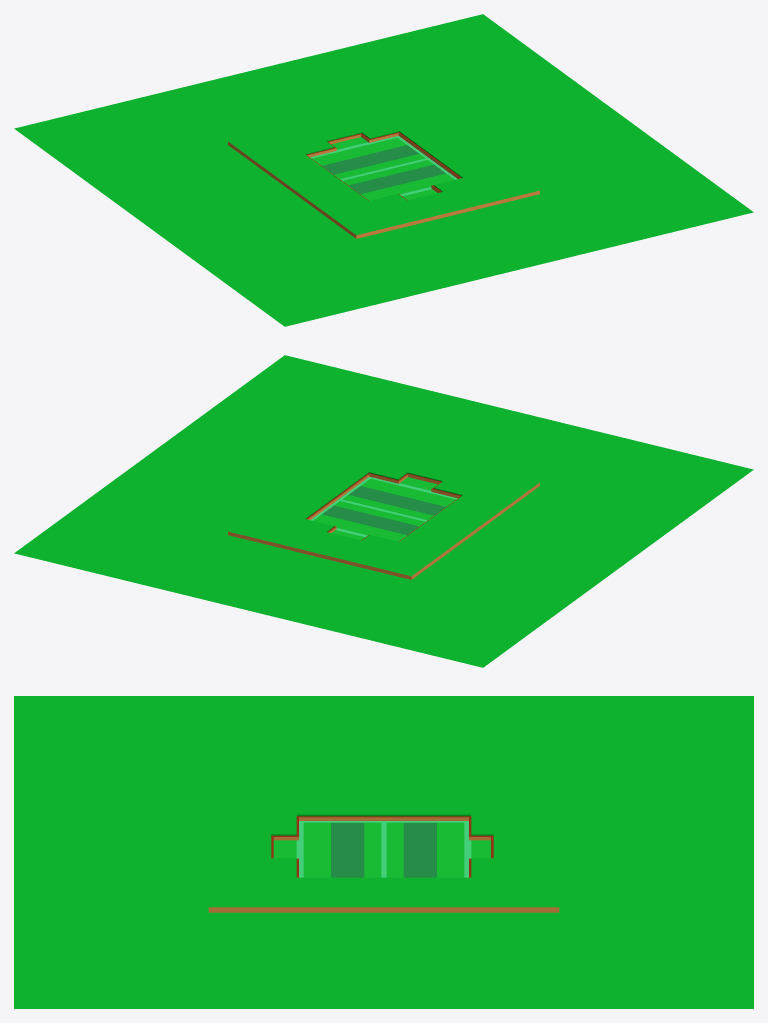
File: BrawlBall_Ground.fbx
3 views of the same model, one above another, from view 1: azimuth 30°, elevation 25°; view 2: azimuth 150°, elevation 25°; view 3: azimuth 270°, elevation 25° (orthographic). The views are drawn at different scales.
Parts seen in each view (by area): view 1: 1_BrawlBall_Ground; view 2: 1_BrawlBall_Ground; view 3: 1_BrawlBall_Ground.
Part boxes in pixels (bbox=[...]): 1_BrawlBall_Ground: bbox=[14, 14, 753, 326]; 1_BrawlBall_Ground: bbox=[14, 355, 753, 667]; 1_BrawlBall_Ground: bbox=[14, 696, 753, 1008].
Size of the model in its own units: 230 by 230 by 2.12.
